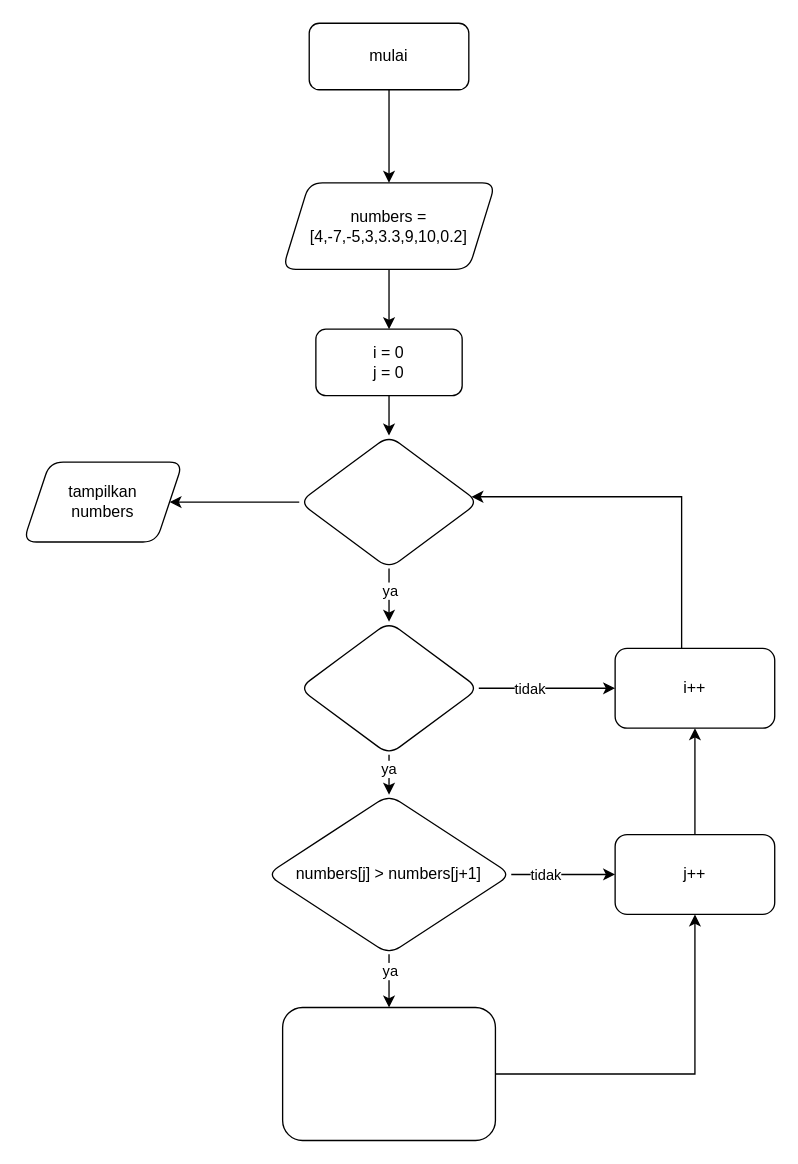
This 798x1164 diagram has some shape labels left out. Here are the shapes that lost their labels. From the top down, the box of each, then its label:
(298, 434, 479, 569): i < (len(numbers) -1)
(298, 620, 479, 755): j < (len(numbers) -1)
(281, 1006, 495, 1140): tukar data numbers[j] = numbers[j+1] numbers[j=1] = numbers[j]
